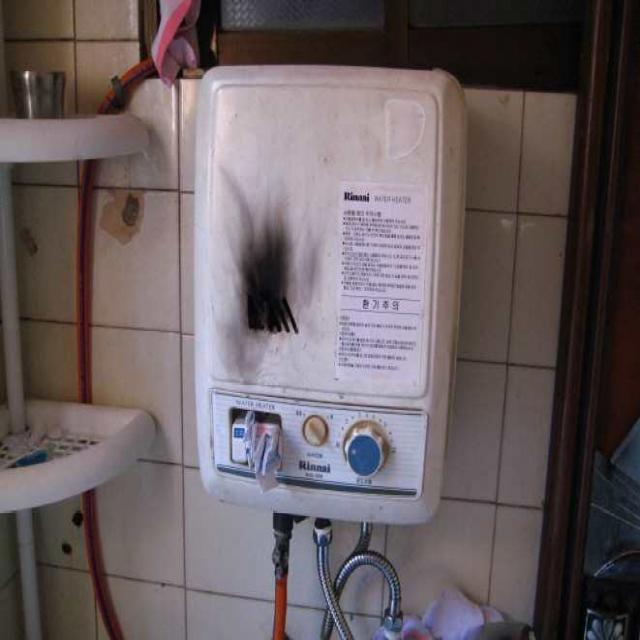Boiler: (191, 61, 474, 536)
